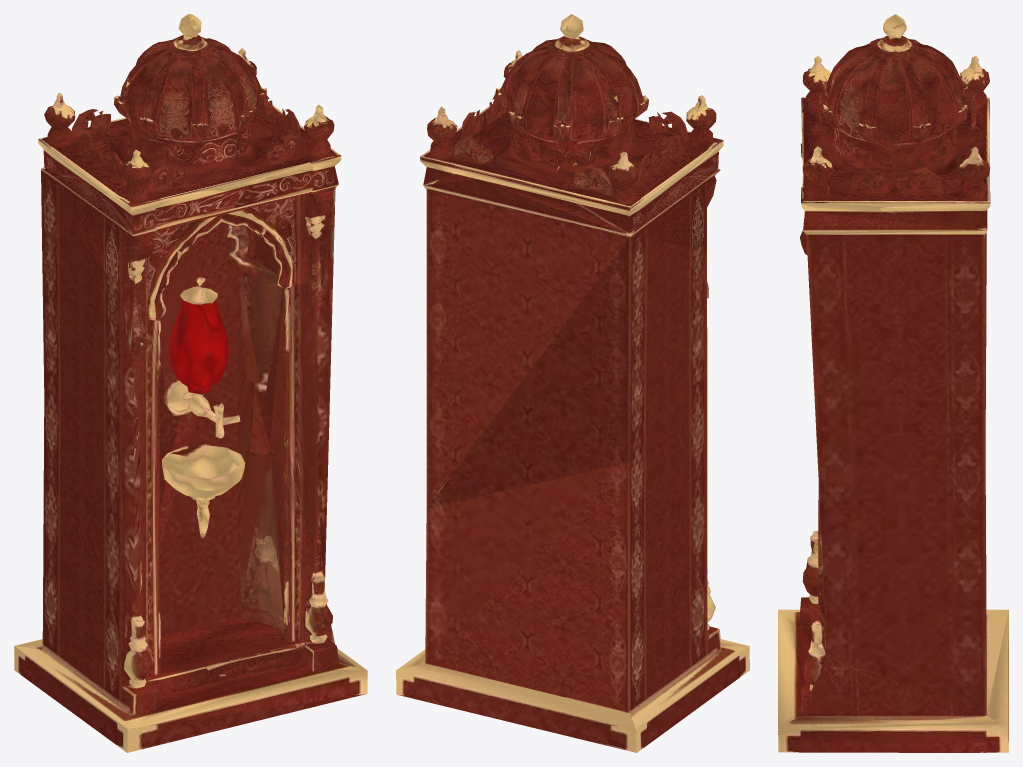
Rendered from la_perk_bulwark2.glb.
3 views of the same model, side by side, from view 1: azimuth 30°, elevation 25°; view 2: azimuth 150°, elevation 25°; view 3: azimuth 270°, elevation 25° (orthographic).
Visible parts, largest first — view 1: la_perk_bulwark2; view 2: la_perk_bulwark2; view 3: la_perk_bulwark2.
Boxes of the visible parts, x1,y1,x2,y2 form: la_perk_bulwark2: (14, 14, 367, 752); la_perk_bulwark2: (396, 14, 749, 752); la_perk_bulwark2: (778, 14, 1008, 752).
Bounding box in the file's own units: 0.792 × 2.1 × 0.6474.
Materials: 1 (1 with a texture image).
